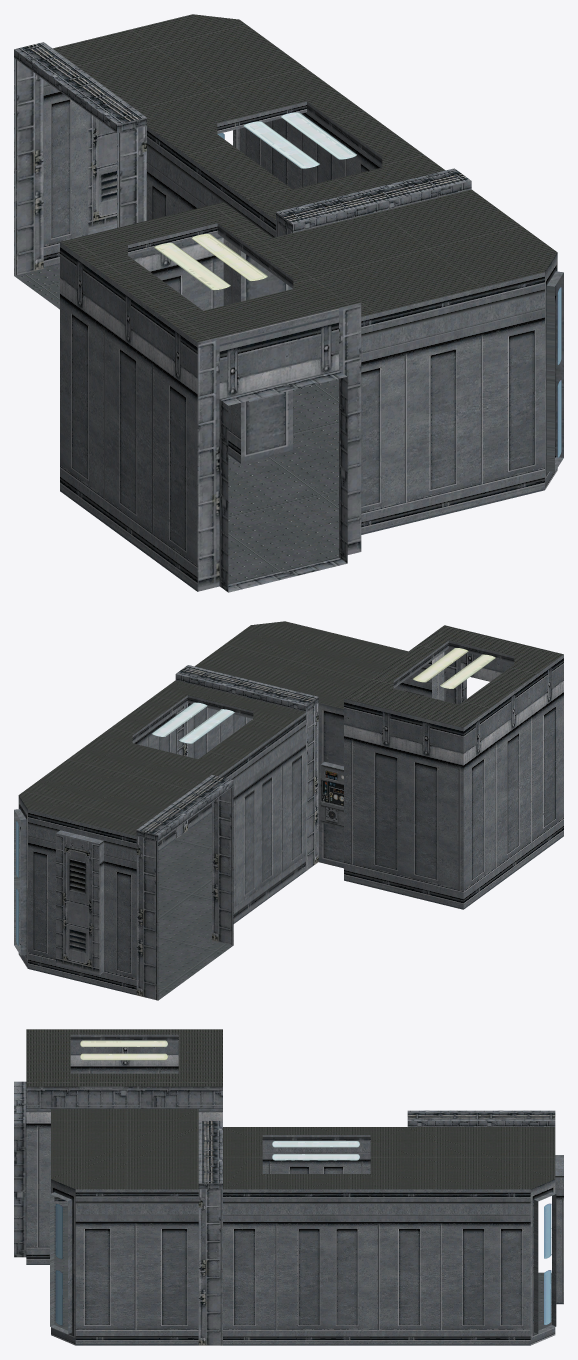
The model's file is poi_all_impl_bunker_s03_r2_hall1_mesh_r2.fbx.
The picture shows the model from 3 angles, top to bottom: view 1: azimuth 30°, elevation 25°; view 2: azimuth 150°, elevation 25°; view 3: azimuth 270°, elevation 25°; orthographic projection. The views are drawn at different scales.
Visible parts, largest first — view 1: mesh_node; view 2: mesh_node; view 3: mesh_node.
Part boxes in pixels (box(x1,y1,x2,y2)): mesh_node: box(14, 14, 563, 592); mesh_node: box(14, 621, 563, 1000); mesh_node: box(14, 1029, 563, 1345).
Bounding box in the file's own units: 6.64 × 4.17 × 11.18.
